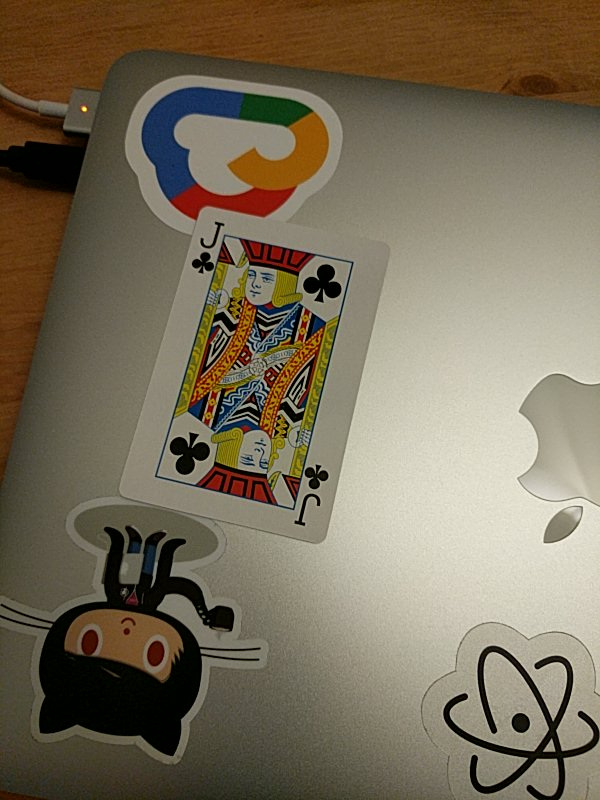Clubs: (118, 204, 392, 547)
